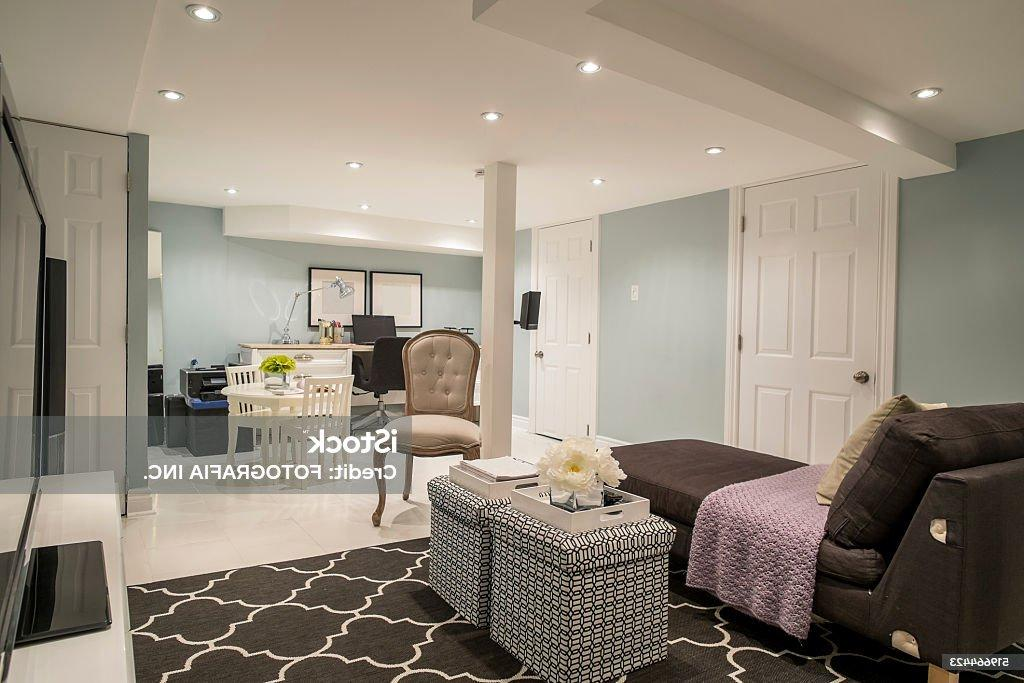TV: (0, 59, 115, 683)
bed: (607, 392, 1024, 683)
chair: (371, 328, 481, 535), (275, 373, 359, 491), (223, 360, 281, 478), (353, 333, 410, 433)
console: (1, 471, 138, 681)
door: (730, 163, 889, 465), (526, 219, 595, 446)
light: (274, 275, 356, 346), (180, 0, 225, 31), (152, 84, 189, 108), (905, 83, 944, 105), (474, 106, 505, 128), (574, 54, 604, 76), (698, 142, 729, 161), (340, 157, 362, 173), (220, 183, 240, 200), (460, 213, 479, 229), (587, 174, 605, 188), (356, 202, 369, 216)
table: (412, 447, 669, 683), (221, 368, 369, 468), (238, 330, 444, 374)
